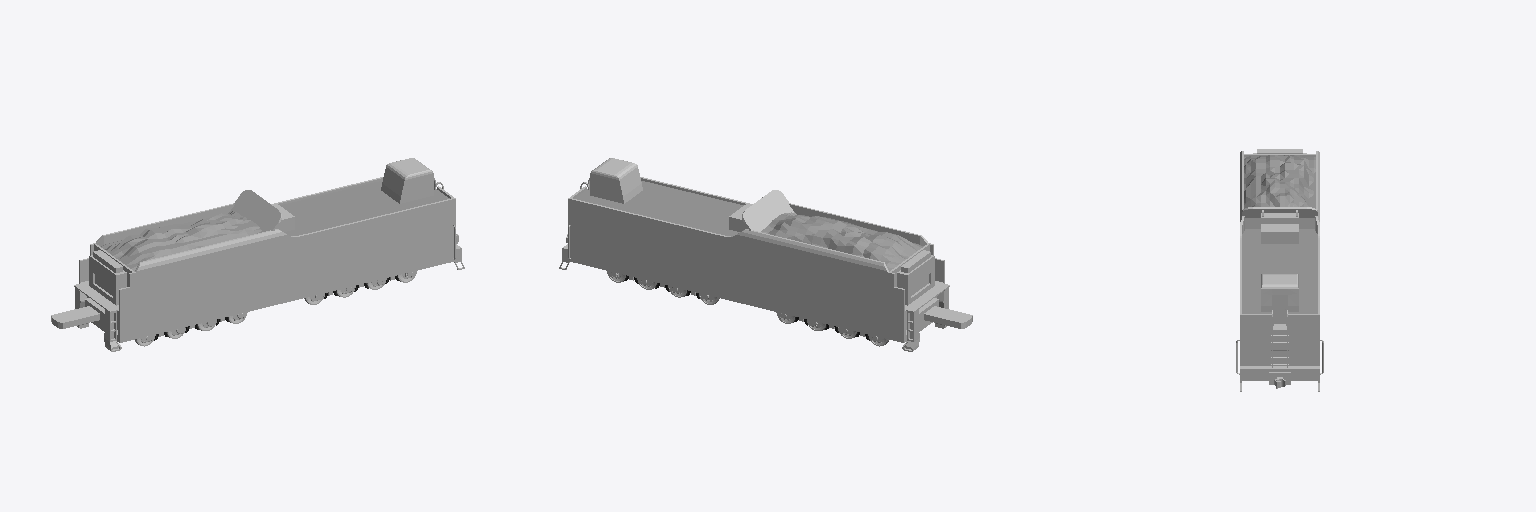
3 renders of one model, left to right at view 1: azimuth 30°, elevation 25°; view 2: azimuth 150°, elevation 25°; view 3: azimuth 270°, elevation 25°, orthographic.
Parts seen in each view (by area): view 1: SHELL_Cube.095, Plane, Cube.025_Cube.049; view 2: SHELL_Cube.095, Plane, Cube.025_Cube.049; view 3: SHELL_Cube.095, Plane, Cube.024_Cube.047, Cube.025_Cube.049.
Part boxes in pixels (x1,y1,x2,y2): SHELL_Cube.095: (51,158,464,351); Plane: (100,211,261,271); Cube.025_Cube.049: (230,190,281,231); SHELL_Cube.095: (559,158,972,351); Plane: (761,212,923,271); Cube.025_Cube.049: (742,190,793,231); SHELL_Cube.095: (1236,149,1323,391); Plane: (1244,155,1315,208); Cube.024_Cube.047: (1261,213,1298,243); Cube.025_Cube.049: (1242,207,1317,217).
Size of the model in its own units: 17.23 by 4.37 by 3.25.
Materials: 12 (1 with a texture image).